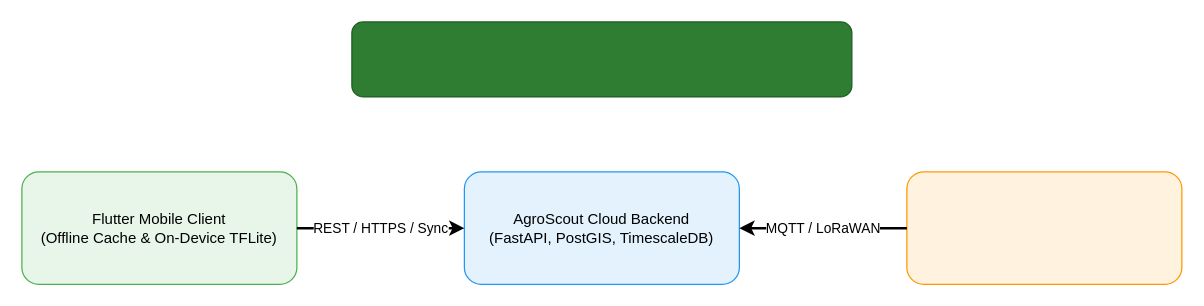
This 1204x306 diagram has some shape labels left out. The shapes that lost their labels are listed below. From the top down, each one's box as (x1, y1, x2, y2) in pixels, then its label:
(351, 21, 852, 97): Offline Synchronization Flow
(906, 171, 1182, 284): Edge IoT Rover & Sensors (ESP32, CM4, Multispectral Cam)
